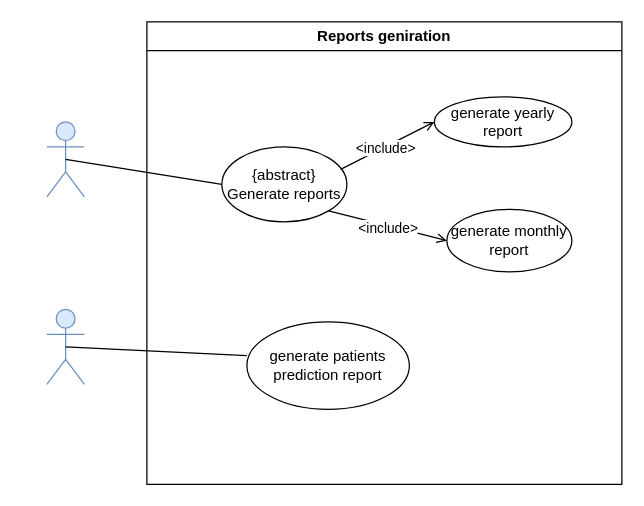
The diagram is 644 pixels wide and 506 high, and some of its shapes have lost their labels. Each missing label, with the box of its shape:
Administrator: (46, 121, 84, 197)
Doctors: (46, 308, 84, 384)
